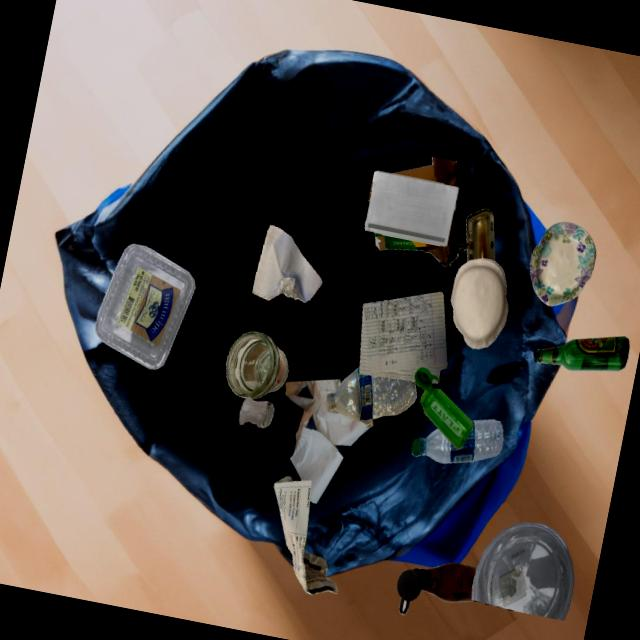cardboard: (530, 222, 596, 306), (371, 176, 429, 243)
glass: (226, 332, 288, 399), (533, 337, 629, 371), (414, 563, 477, 602), (466, 209, 495, 262), (239, 396, 274, 428)
paper: (285, 379, 374, 504), (359, 292, 447, 381), (274, 476, 337, 595), (365, 171, 460, 246), (253, 225, 322, 303), (451, 258, 508, 349)
plastic: (95, 244, 195, 370), (471, 522, 574, 621), (326, 367, 417, 421), (414, 367, 473, 449), (412, 419, 503, 463), (397, 570, 422, 615)
